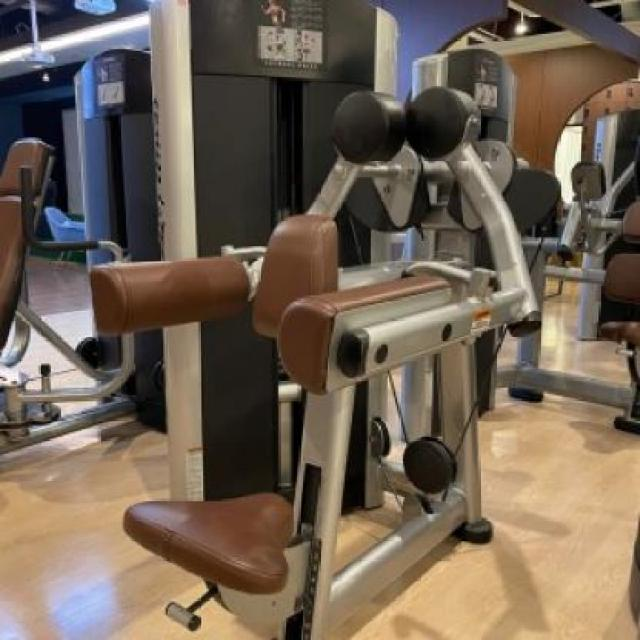lateral raises machine: (88, 214, 540, 640)
